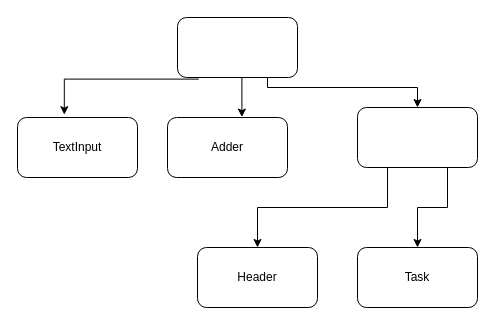
The diagram is 495 pixels wide and 325 high, and some of its shapes have lost their labels. The centre of each missing label's shape, as x and y in pixels:
Container: the point at 237,47
List: the point at 417,137
